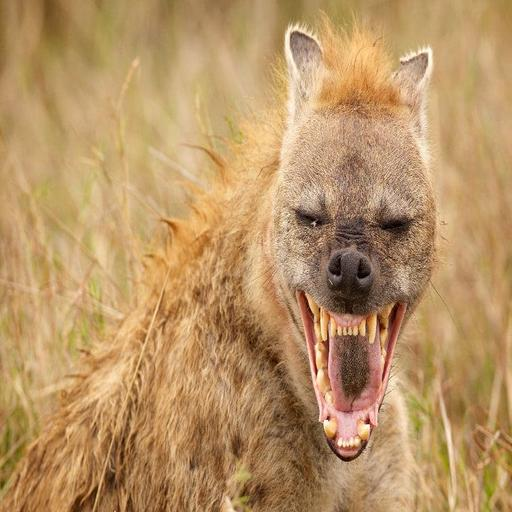Hyena: (0, 22, 449, 512)
